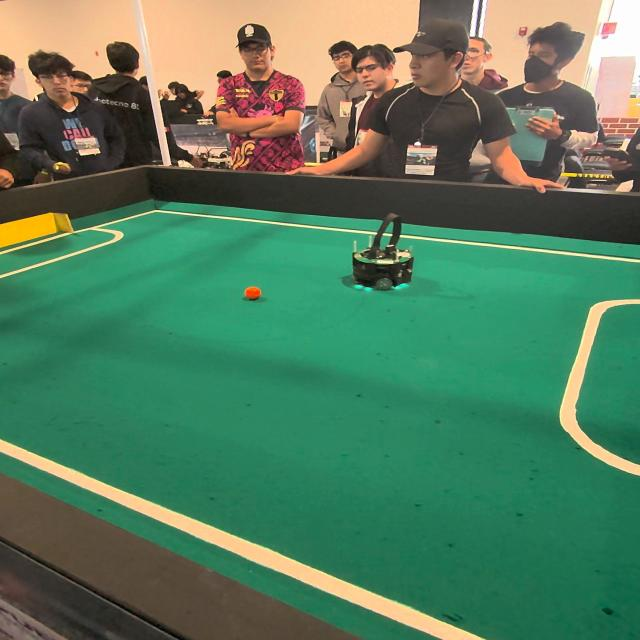Robot: (343, 216, 416, 302)
pelota: (242, 286, 260, 298)
